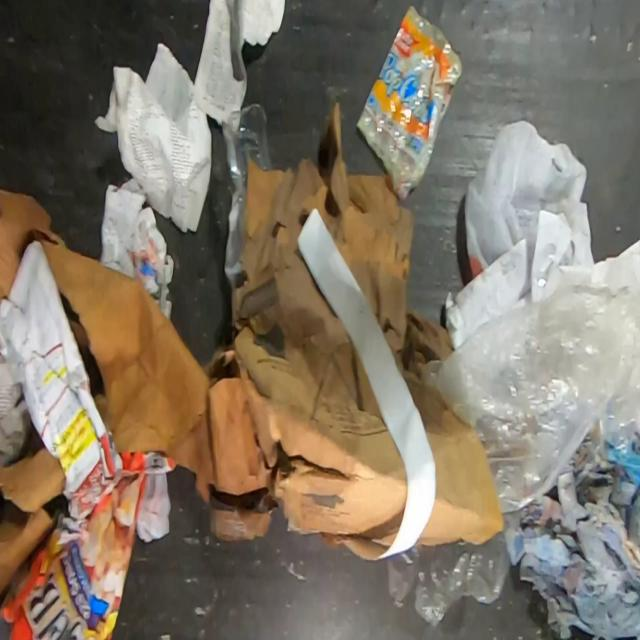cardboard: (0, 101, 504, 562), (0, 471, 149, 639), (0, 445, 67, 599)
soft_plastic: (386, 282, 640, 628), (464, 120, 595, 300), (355, 4, 463, 202), (221, 102, 272, 290)
